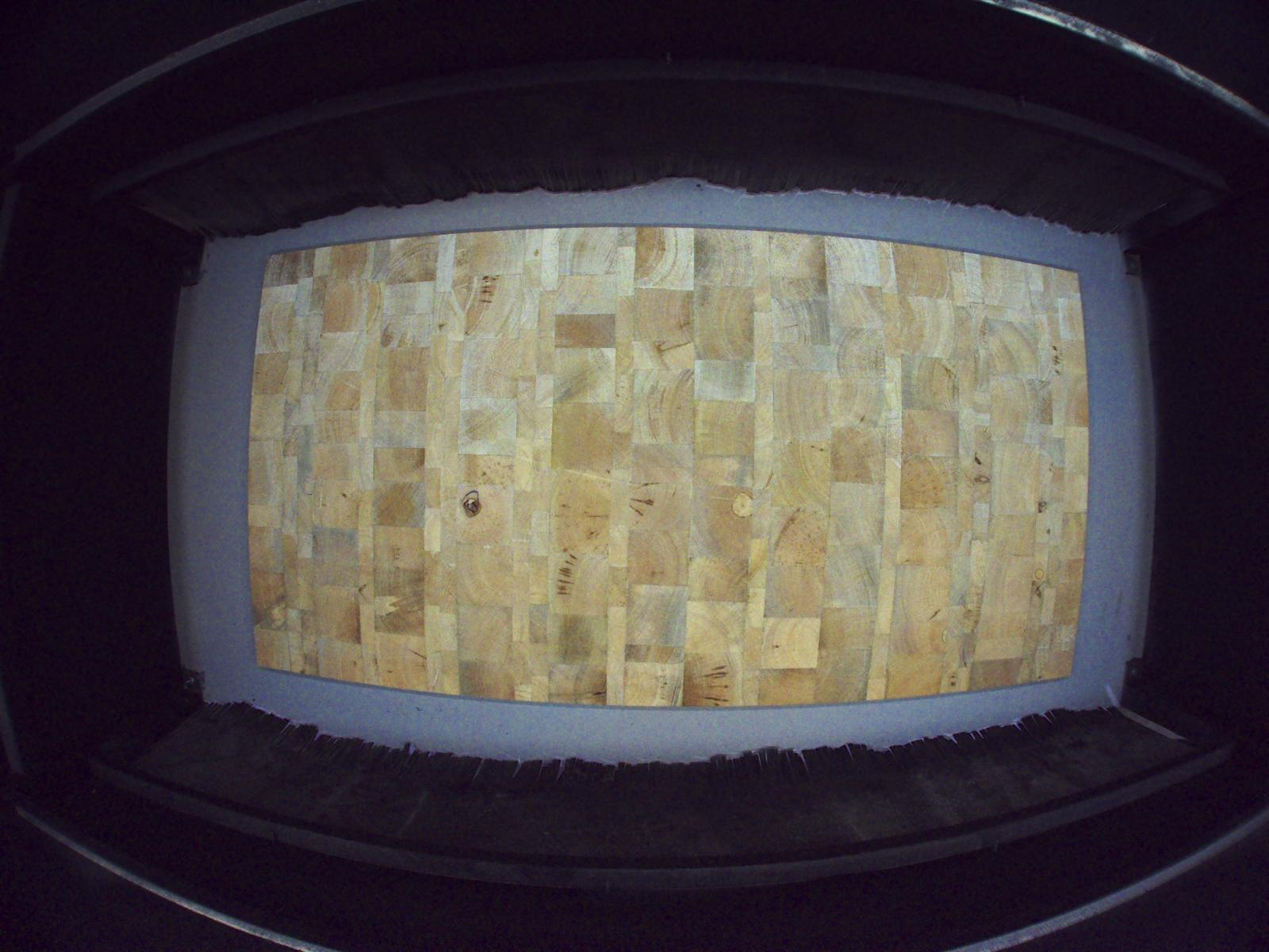nudillo: (463, 496, 483, 519)
